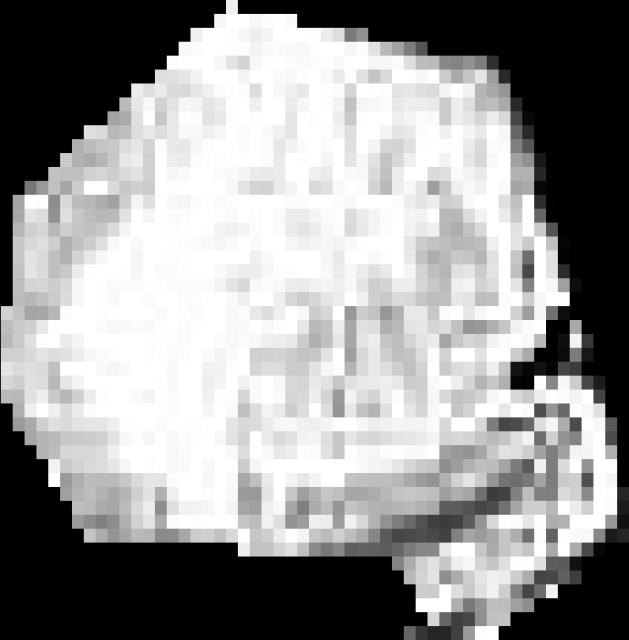tumor_good_chance: (1, 0, 629, 640)
